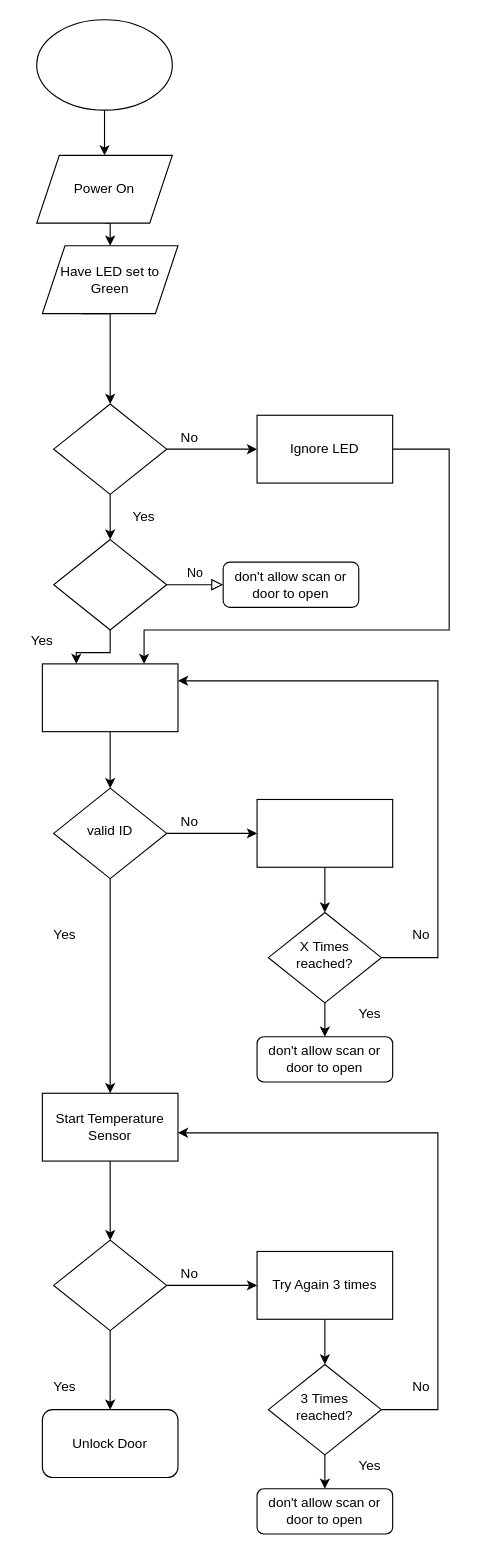
Some shapes in this 478 by 1554 pixel diagram are drawn without their labels. The shapes that lost their labels are listed below. From the top down, each one's box as (x1, y1, x2, y2) in pixels, then its label:
(36, 19, 172, 110): Start of Day
(53, 403, 167, 494): Enter building
(53, 538, 167, 630): LED is Green
(41, 663, 178, 732): Activate NFC
(256, 798, 393, 867): Try Again x times
(53, 1239, 167, 1331): Below 37.5 degrees
